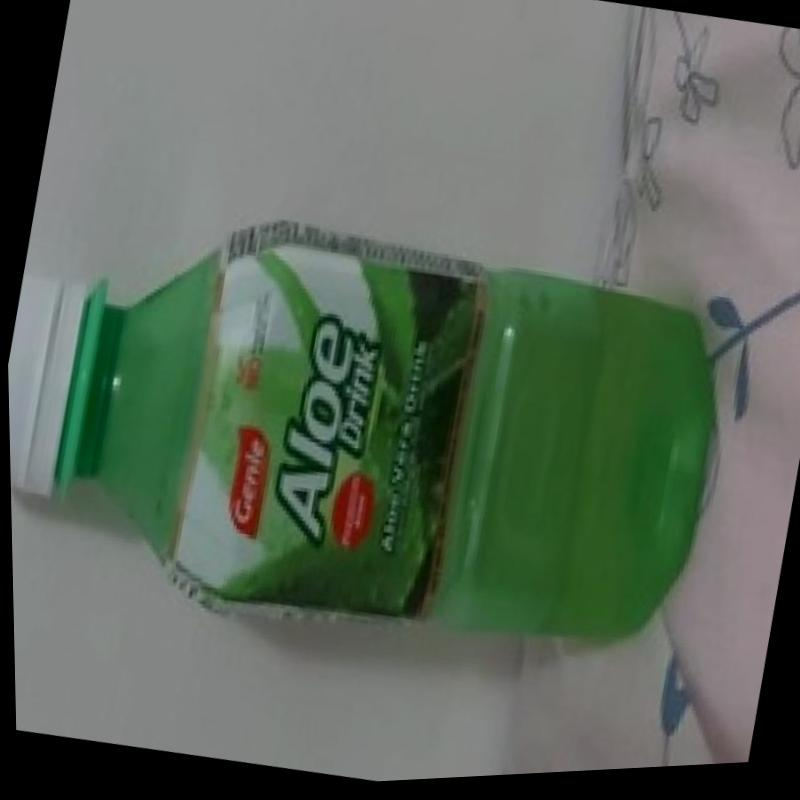botella: (3, 156, 755, 702)
